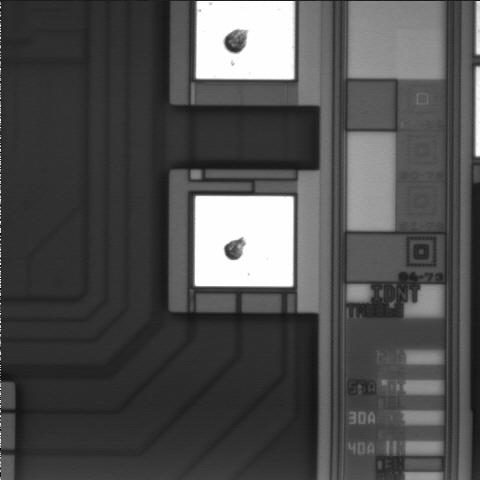pad: (195, 196, 294, 286)
